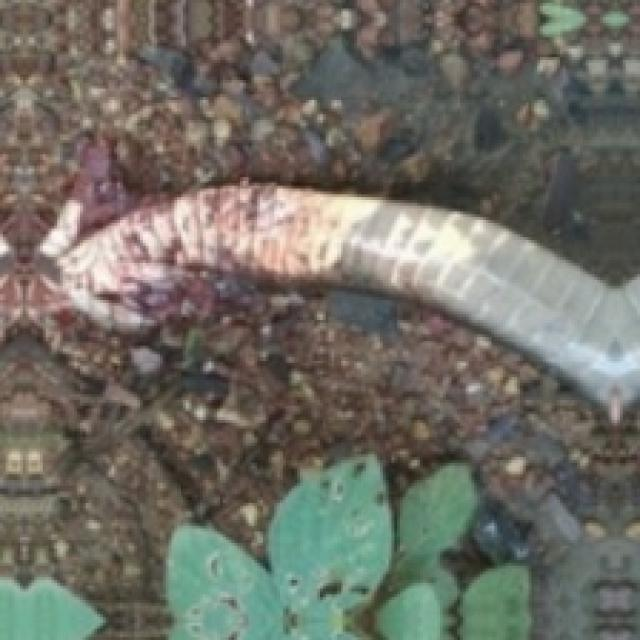king cobra: (57, 186, 637, 417)
